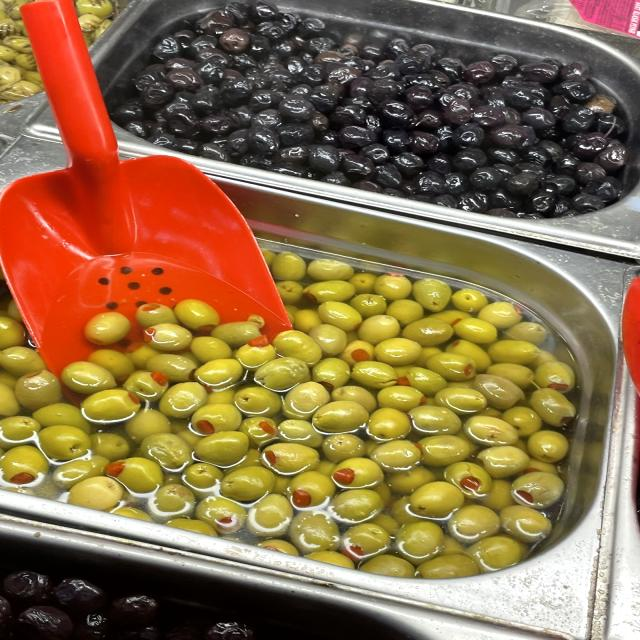olive: (368, 94, 417, 130), (244, 122, 287, 161), (275, 91, 316, 123), (215, 24, 253, 56)
